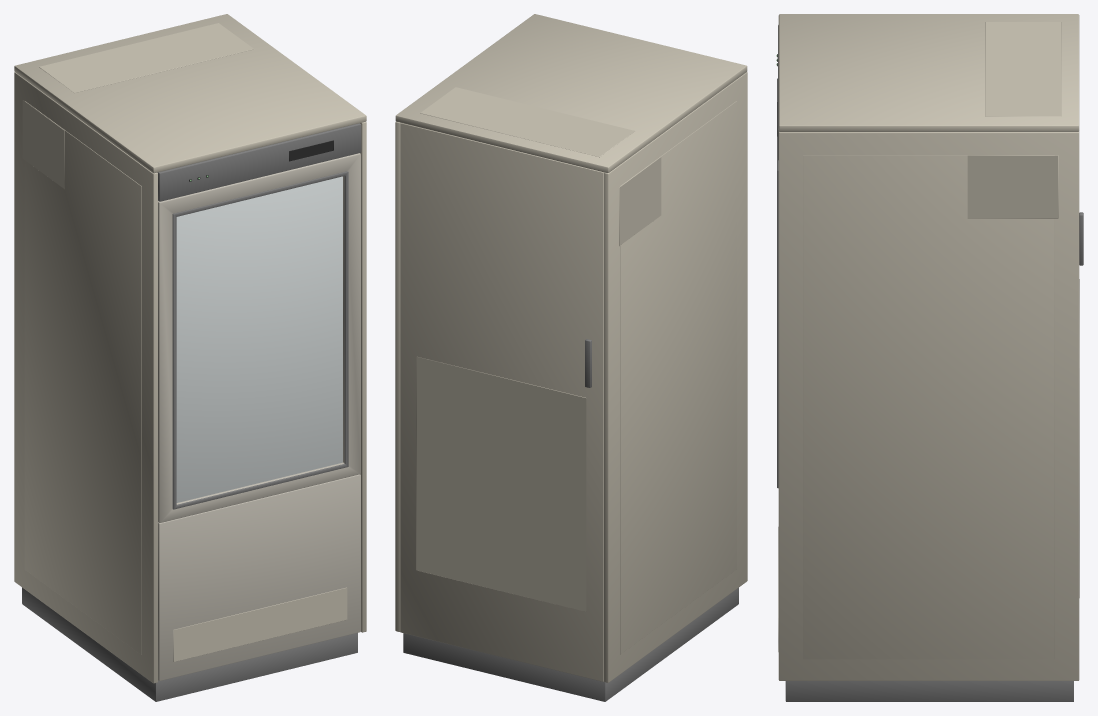
File: Kit_SystemCabinet_Disk.fbx
3 views of the same model, side by side, from view 1: azimuth 30°, elevation 25°; view 2: azimuth 150°, elevation 25°; view 3: azimuth 270°, elevation 25° (orthographic). The views are drawn at different scales.
Parts seen in each view (by area): view 1: Kit_SystemCabinet_Disk_LOD0; view 2: Kit_SystemCabinet_Disk_LOD0; view 3: Kit_SystemCabinet_Disk_LOD0.
Part boxes in pixels (left/top/right/bottom): Kit_SystemCabinet_Disk_LOD0: left=14, top=14, right=366, bottom=701; Kit_SystemCabinet_Disk_LOD0: left=395, top=14, right=747, bottom=701; Kit_SystemCabinet_Disk_LOD0: left=776, top=14, right=1083, bottom=701.
Size of what is drawn, in the model's own units: 0.7671 by 1.83 by 0.8787.
